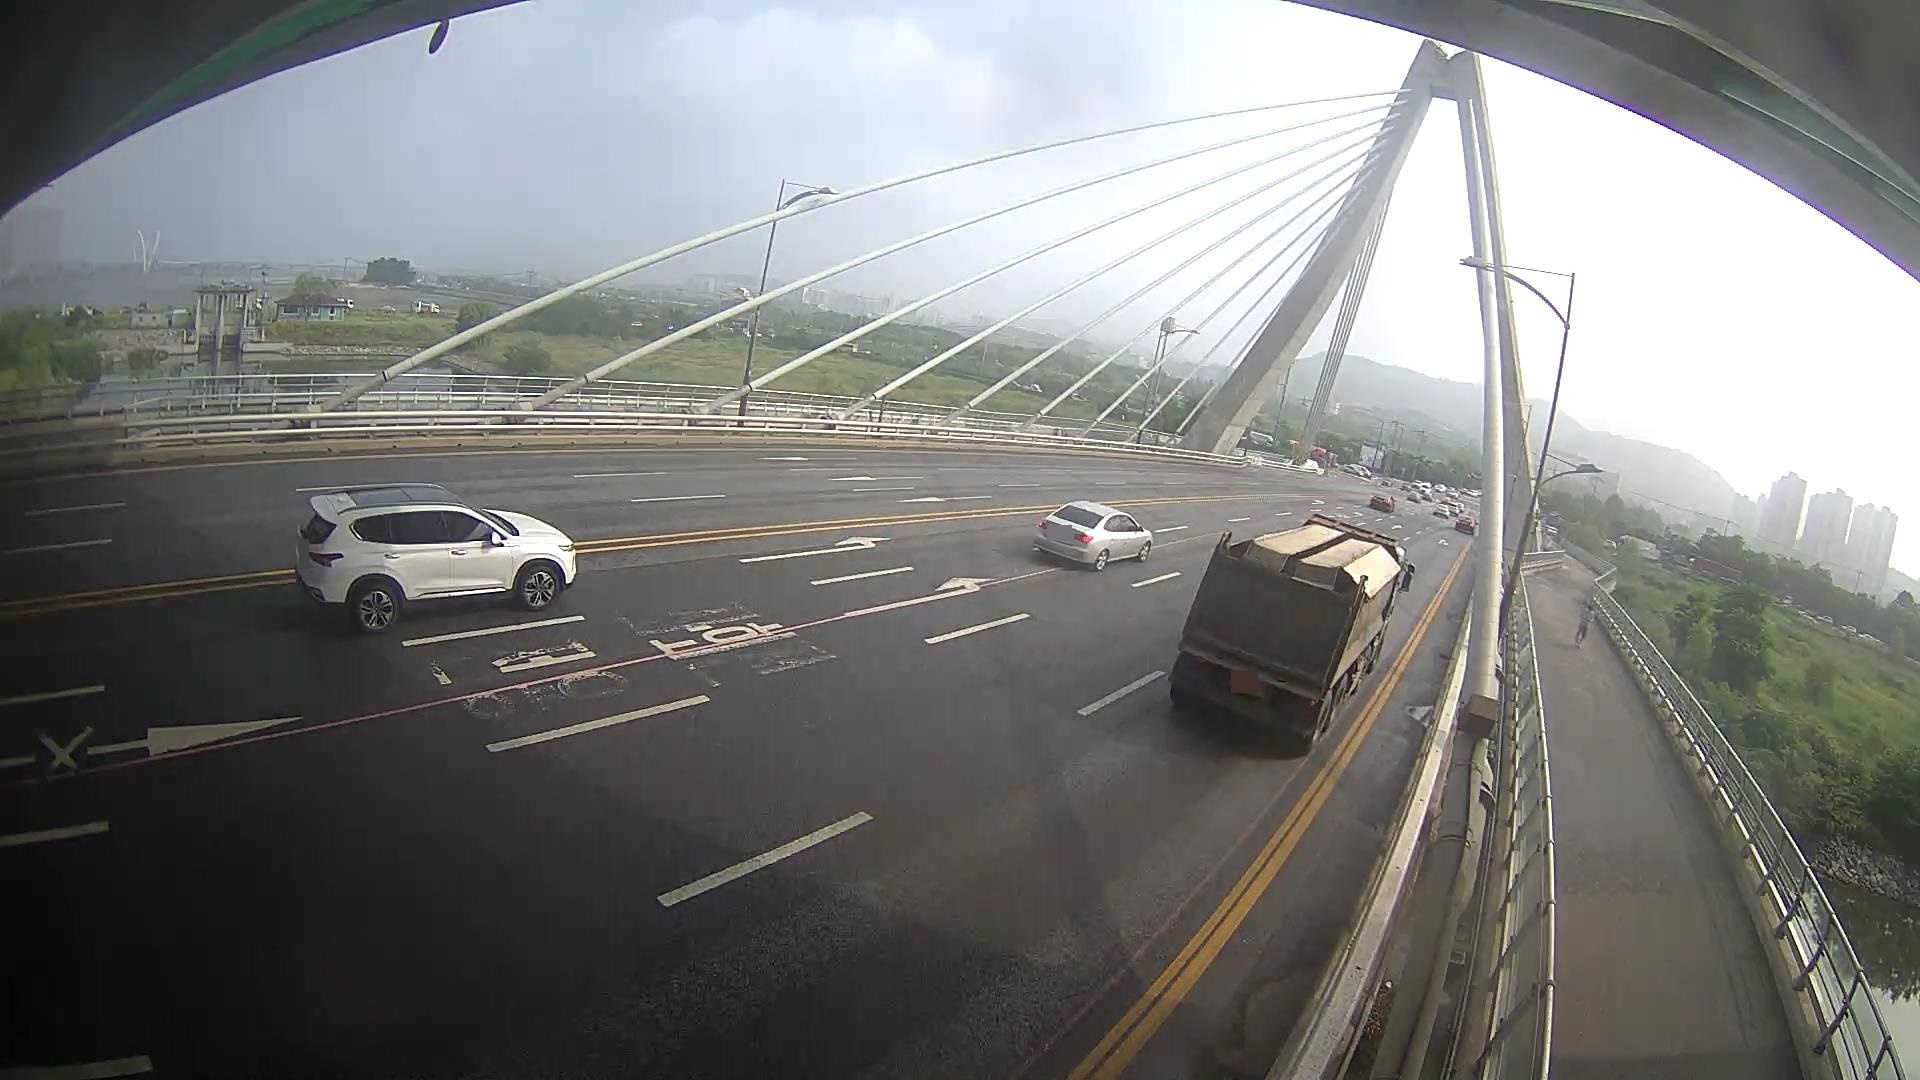정상차량: (1170, 513, 1418, 757)
